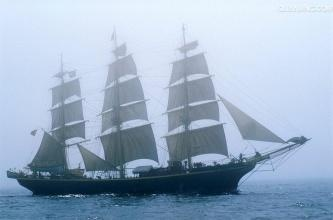fanchuan: (6, 22, 311, 195)
